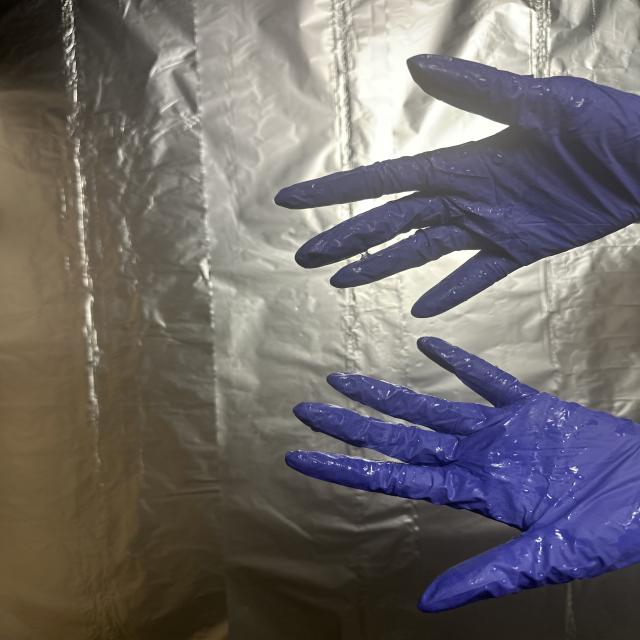gloves_contaminated: (286, 337, 640, 612), (274, 55, 640, 318)
